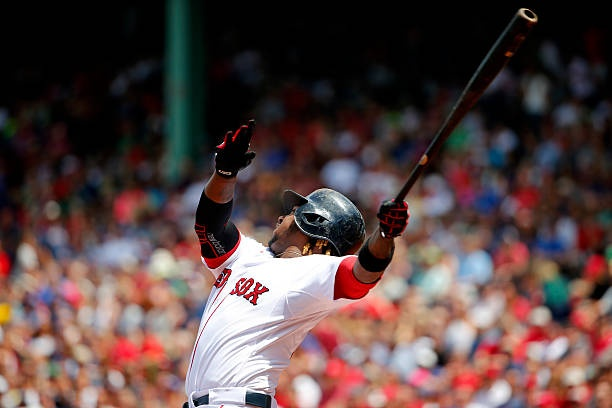bita: (385, 7, 542, 211)
